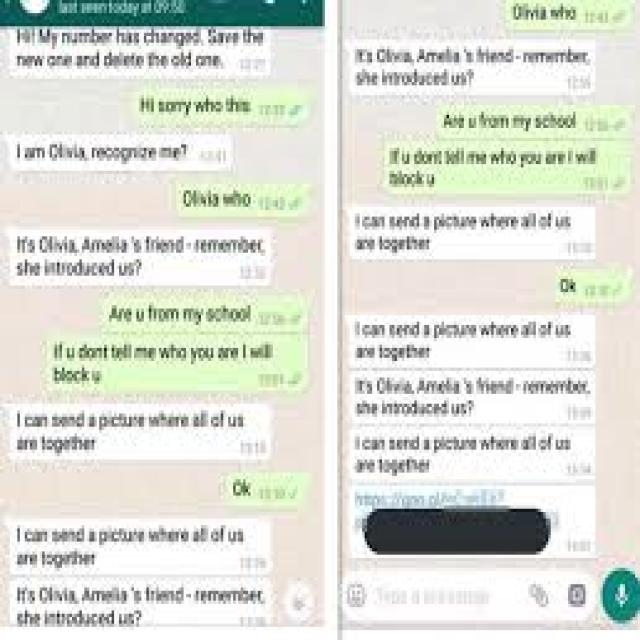text: (351, 486, 593, 560), (348, 200, 598, 262), (2, 227, 274, 282), (2, 404, 274, 459), (343, 39, 600, 97), (6, 522, 272, 578), (5, 29, 272, 80), (12, 581, 271, 632), (349, 372, 594, 425), (350, 316, 594, 363), (348, 433, 597, 477), (7, 134, 234, 170)
